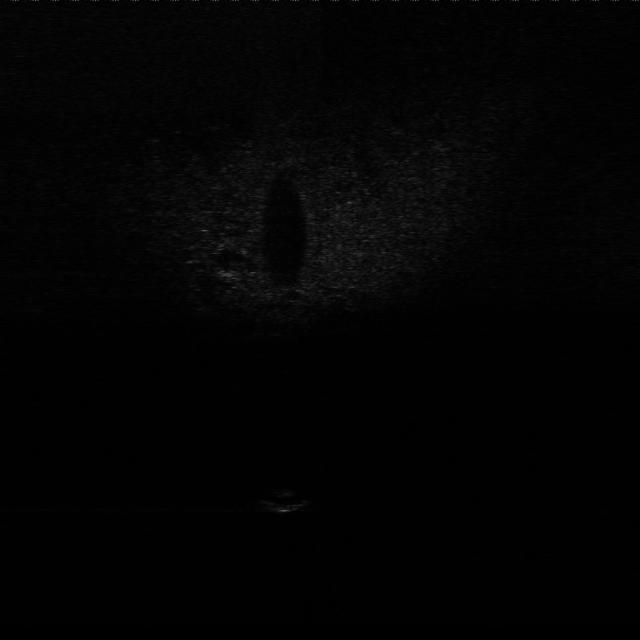ball: (264, 485, 310, 513)
